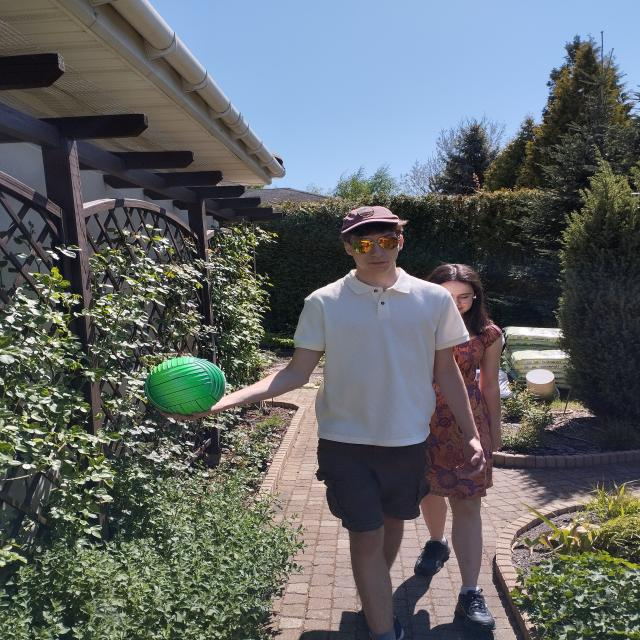zielona: (147, 355, 225, 415)
